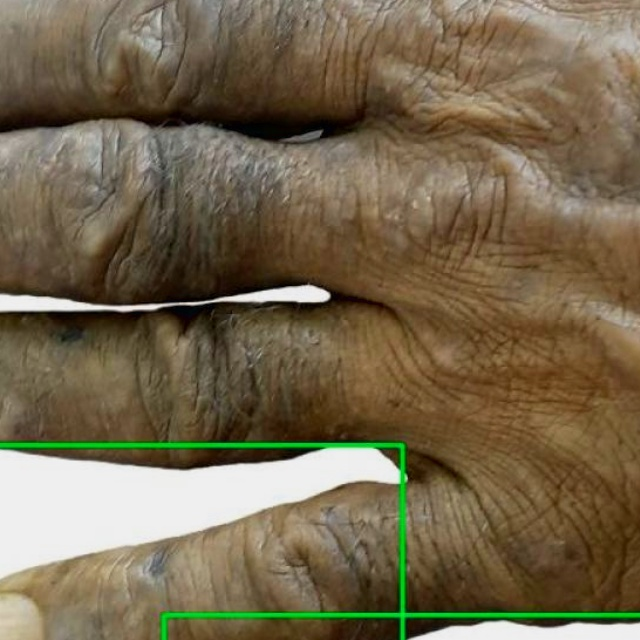Eczema: (0, 445, 402, 639)
